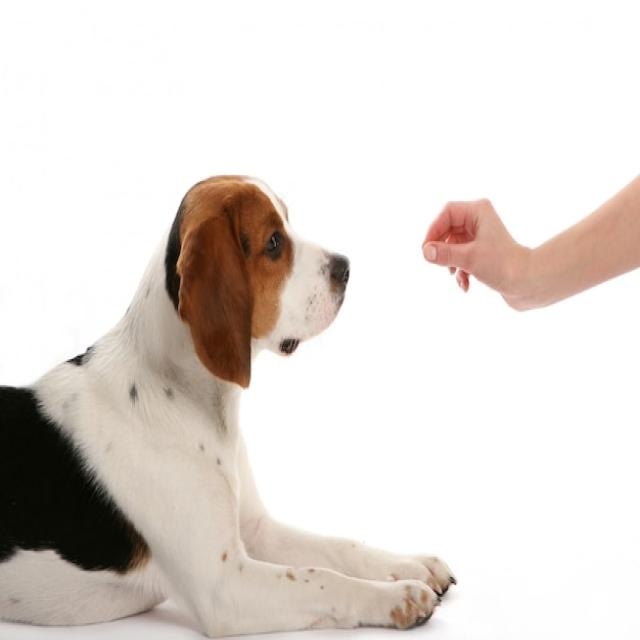Dog: (0, 172, 456, 640)
